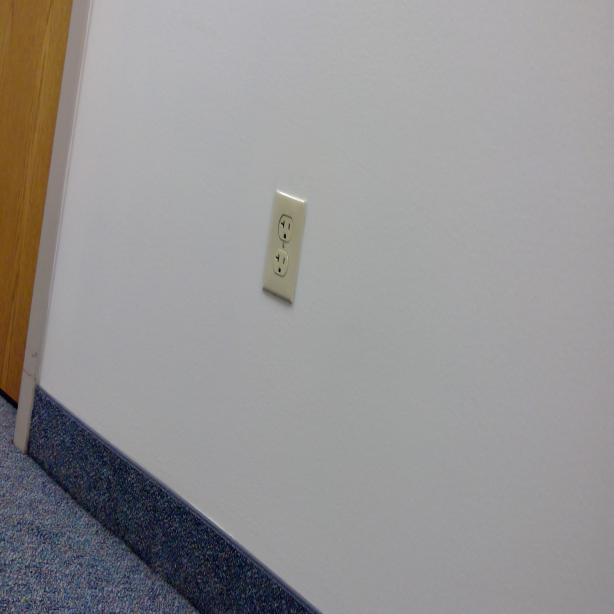typeb: (274, 250, 287, 275), (282, 216, 292, 242)
